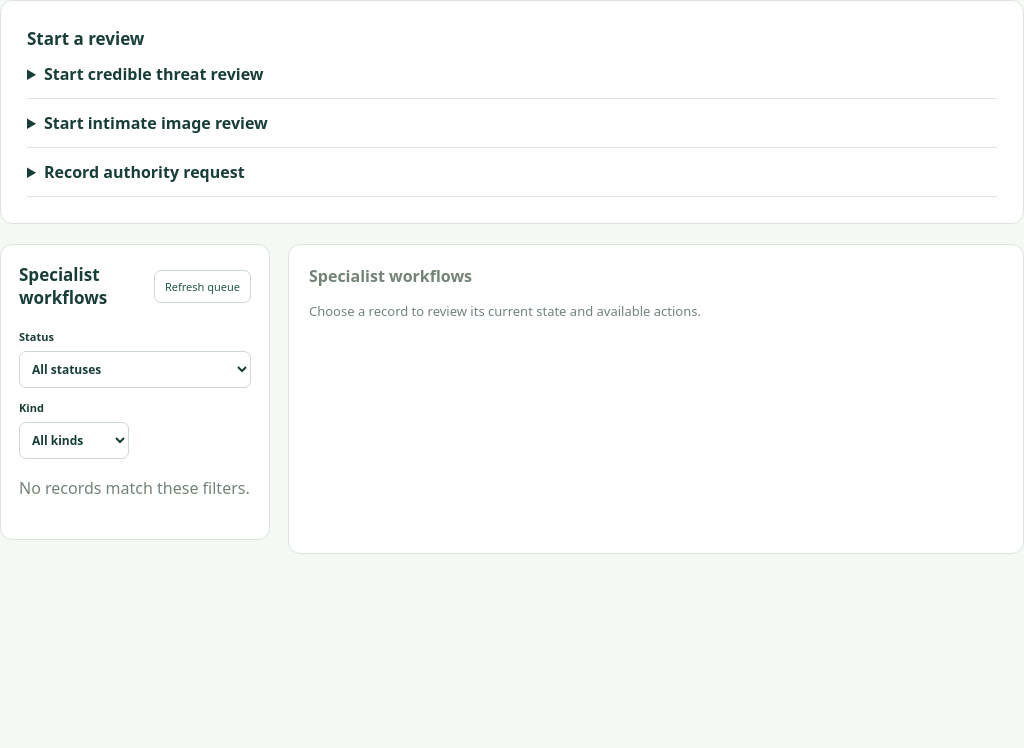
Test: admin creates a credible-threat review with a consequence-aware confirmation
Click the heading "Start credible threat review".
click(154, 74)  # box 44,63 -> 264,85
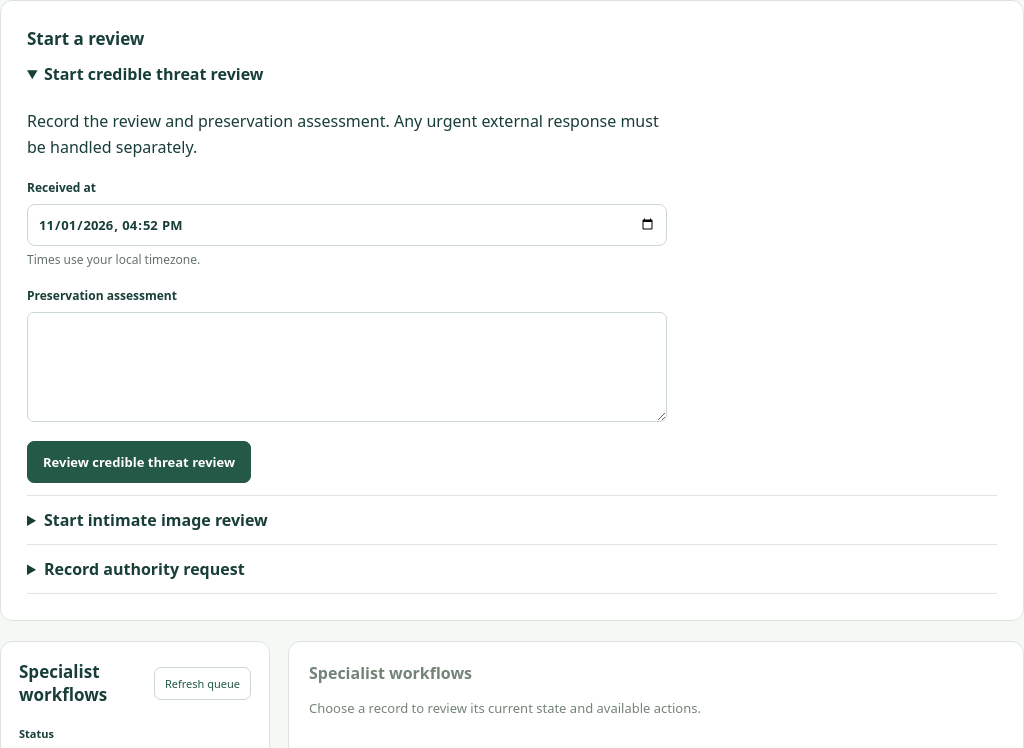
Type "Relevant records retained in approved storage." into the text box labelled "Preservation assessment".
click(347, 367); type("Relevant records retained in approved storage.")  # box 27,312 -> 667,422
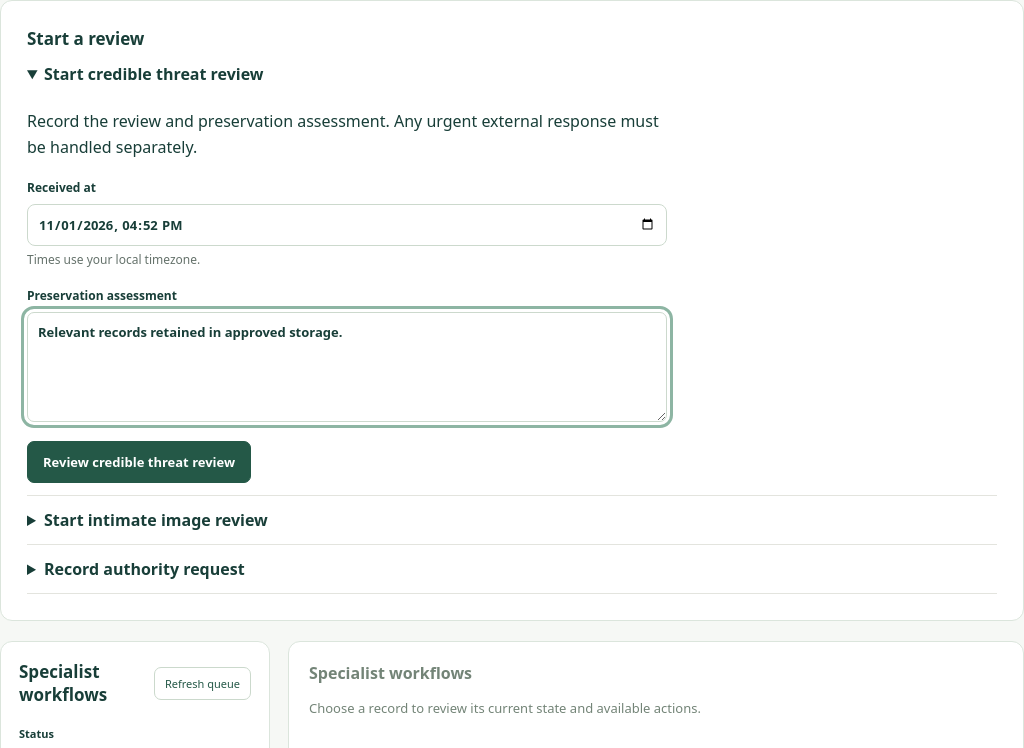
Click the button "Review credible threat review".
click(139, 462)  # box 27,441 -> 251,483
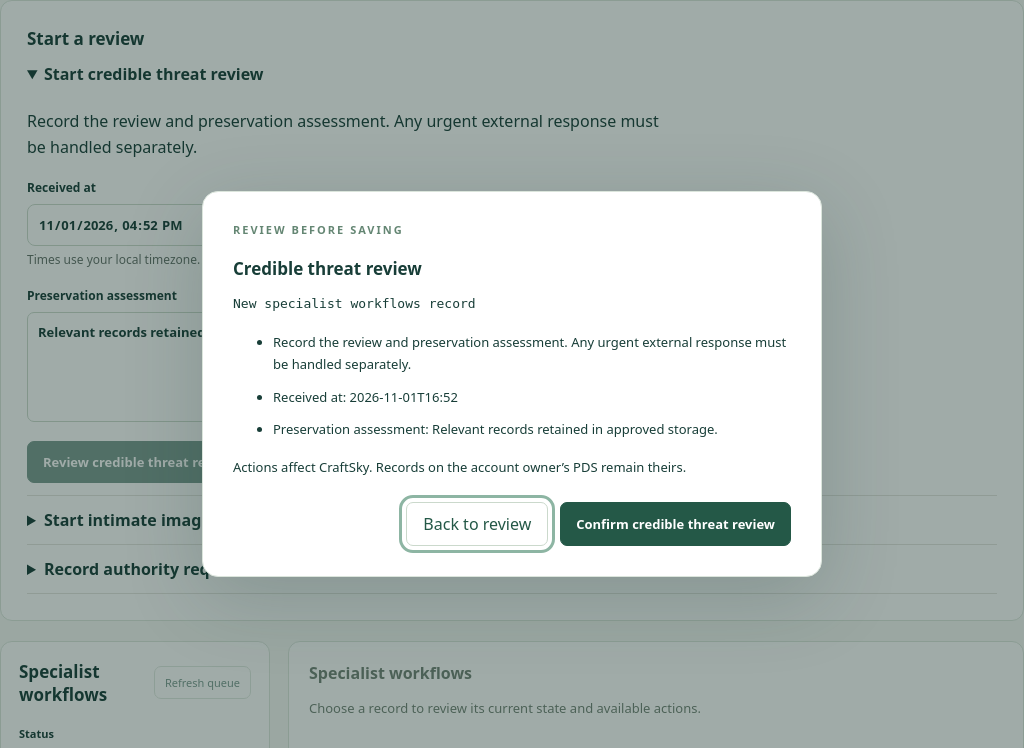
Click the button "Confirm credible threat review".
click(676, 524)  # box 560,502 -> 791,546
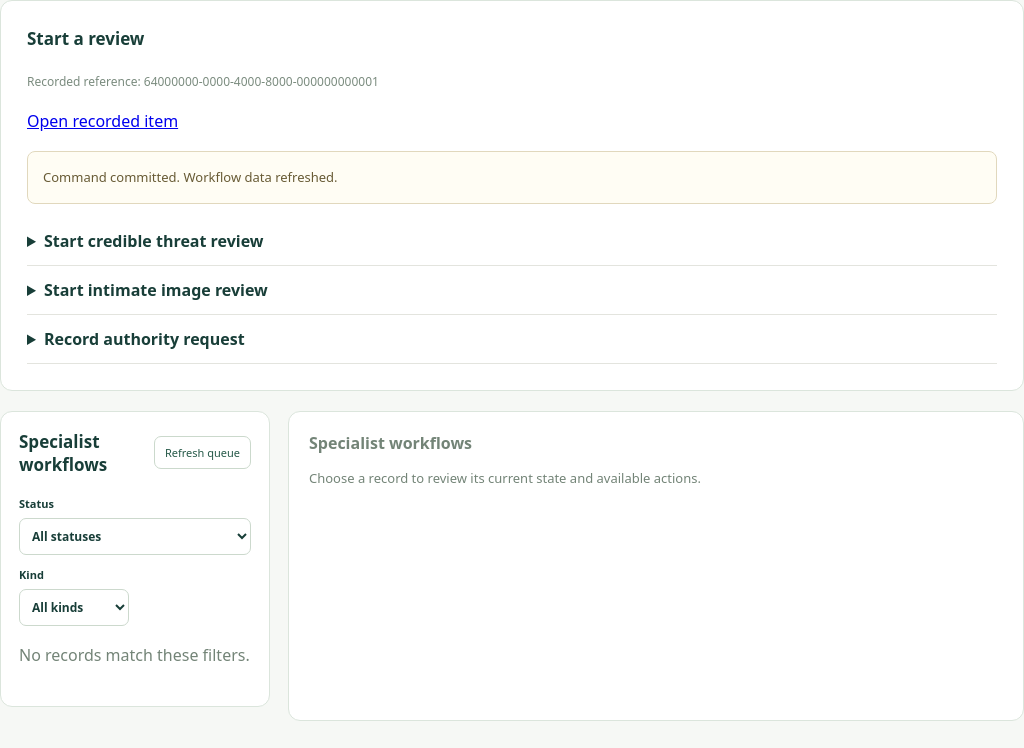
expect the text "Command committed. Workflow data refreshed." is shown: met, box 27,151 -> 997,204
